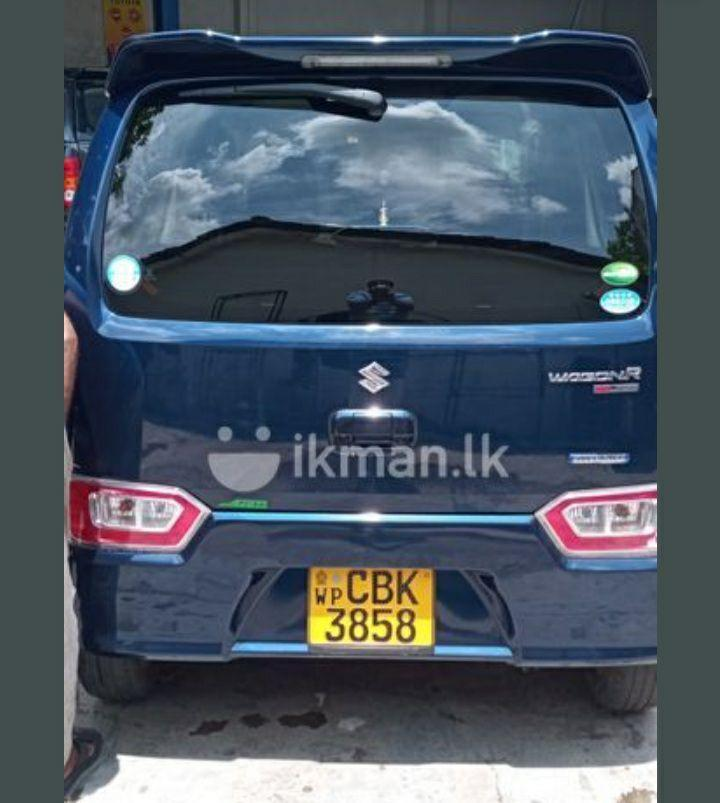license-plate: (307, 565, 433, 644)
